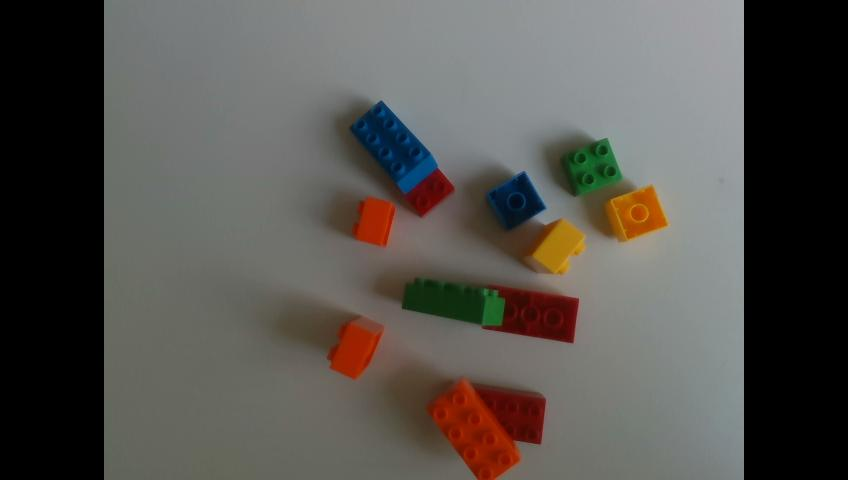2x2_blue: (488, 170, 547, 230)
2x2_green: (564, 137, 621, 194)
2x2_orange: (325, 317, 387, 381), (349, 198, 396, 248)
2x2_red: (404, 167, 455, 215)
2x2_yellow: (602, 183, 667, 240), (521, 219, 583, 275)
4x2_blue: (351, 98, 436, 192)
4x2_green: (404, 276, 503, 324)
4x2_orange: (430, 379, 523, 480)
4x2_red: (482, 285, 579, 341), (476, 384, 546, 443)
